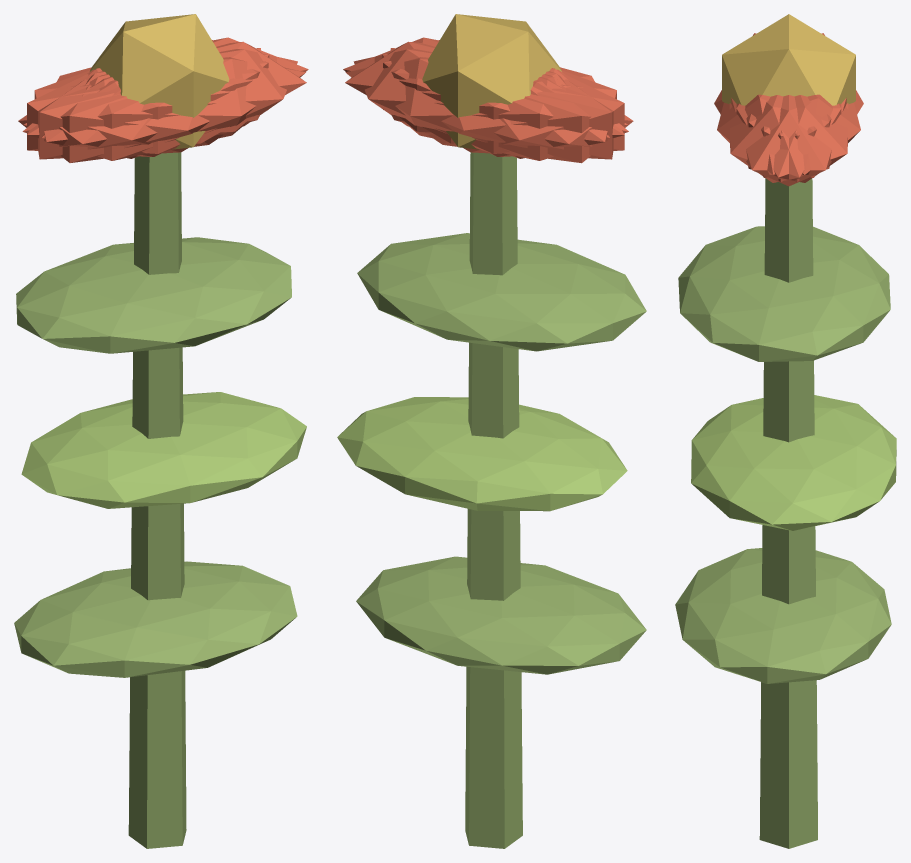
The model's file is rauvolfia-tetraphylla.glb.
3 renders of one model, left to right at view 1: azimuth 30°, elevation 25°; view 2: azimuth 150°, elevation 25°; view 3: azimuth 270°, elevation 25°, orthographic.
Parts seen in each view (by area): view 1: stem, leaf2, leaf0, leaf1, center, petal1, petal6, petal2, petal5, petal7, petal0, petal4 (+2 smaller); view 2: stem, leaf2, leaf1, leaf0, center, petal8, petal3, petal7, petal4, petal2, petal0, petal5 (+2 smaller); view 3: stem, leaf2, leaf1, leaf0, center, petal0, petal4, petal5, petal1, petal8.
Part boxes in pixels (x1,y1,x2,y2): stem: (128,152,186,848); leaf2: (16,237,291,353); leaf0: (14,561,297,677); leaf1: (21,392,306,508); center: (89,14,229,149); petal1: (22,57,305,160); petal6: (18,69,222,162); petal2: (38,48,260,159); petal5: (42,49,297,153); petal7: (27,54,269,156); petal0: (89,41,306,143); petal4: (24,37,308,135); stem: (465,152,522,848); leaf2: (357,233,646,351); leaf1: (337,397,627,511); leaf0: (356,556,646,674); center: (422,14,561,149); petal8: (345,57,628,160); petal3: (428,69,633,163); petal7: (390,48,613,159); petal4: (353,49,609,153); petal2: (382,54,624,156); petal0: (345,41,562,143); petal5: (343,37,627,135); stem: (759,178,817,848); leaf2: (678,226,890,361); leaf1: (691,395,896,530); leaf0: (675,548,891,683); center: (722,14,855,105); petal0: (731,95,846,186); petal4: (736,95,848,182); petal5: (729,95,841,182); petal1: (717,94,831,174); petal8: (746,94,860,174).
Bounding box in the file's own units: 0.1457 × 0.405 × 0.1011.
